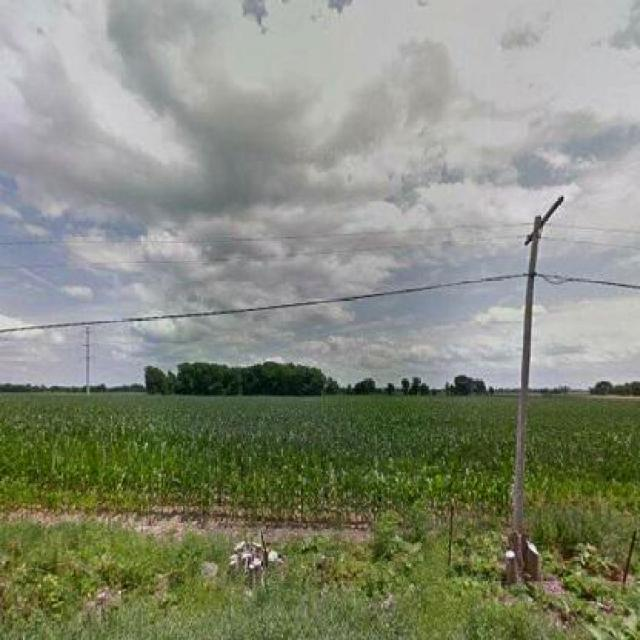crossarm: (526, 197, 568, 246)
pole: (506, 235, 540, 588)
wire: (0, 272, 640, 335), (542, 237, 639, 249), (546, 222, 640, 234)
